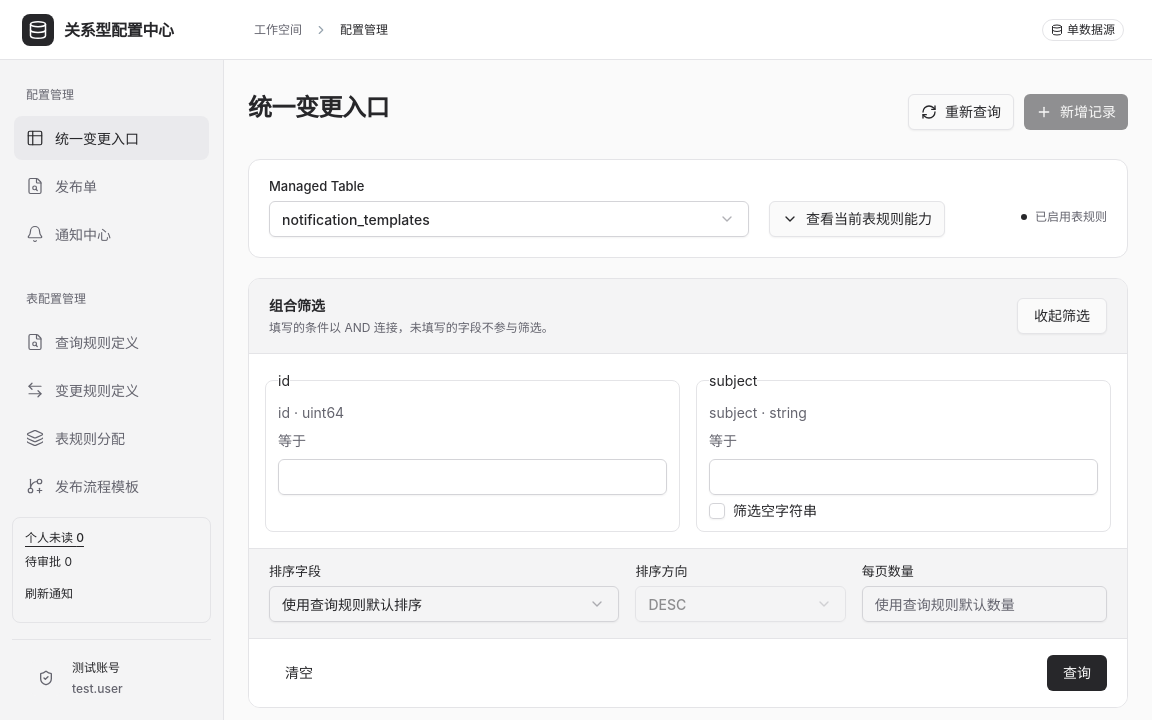
Scenario: 统一变更入口页面 › 切换 enabled Managed Table 时重置 Query Spec 并查询所选表的动态列
Select "audit_messages" in the dropdown labelled "Managed Table" at (509, 219), box [269,201,749,237]
(page scrolled)
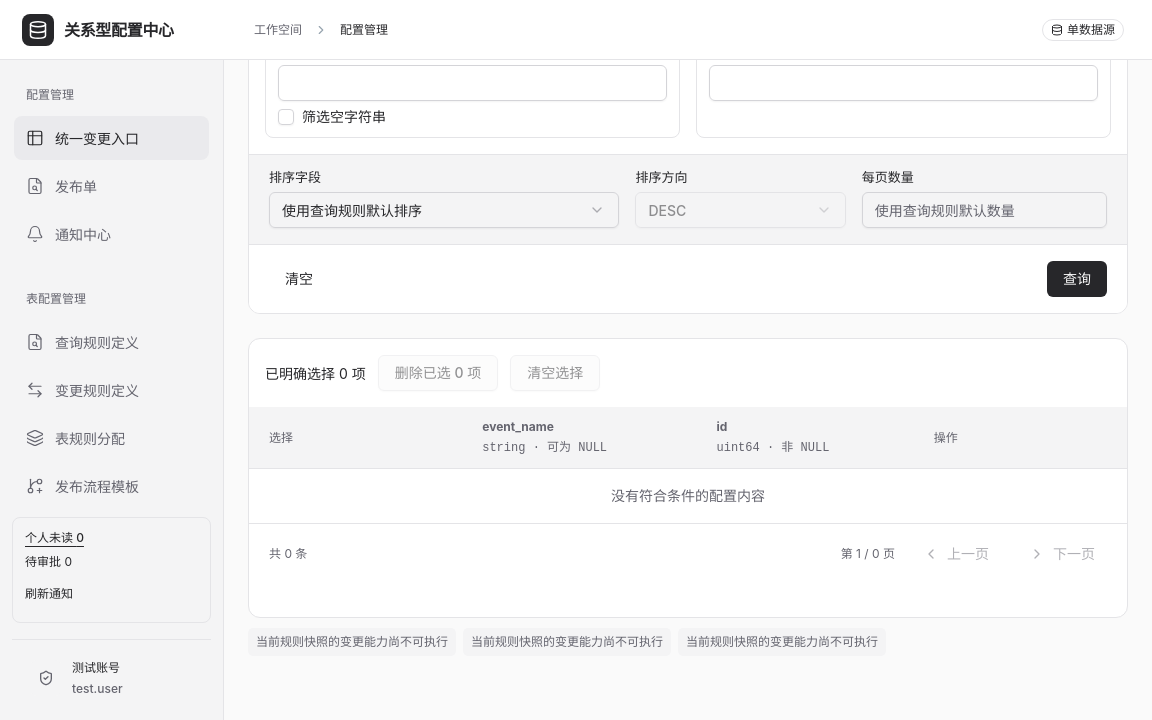
Expected: the column heading "event_name string · 可为 NULL" is shown, [462,407,696,469]
